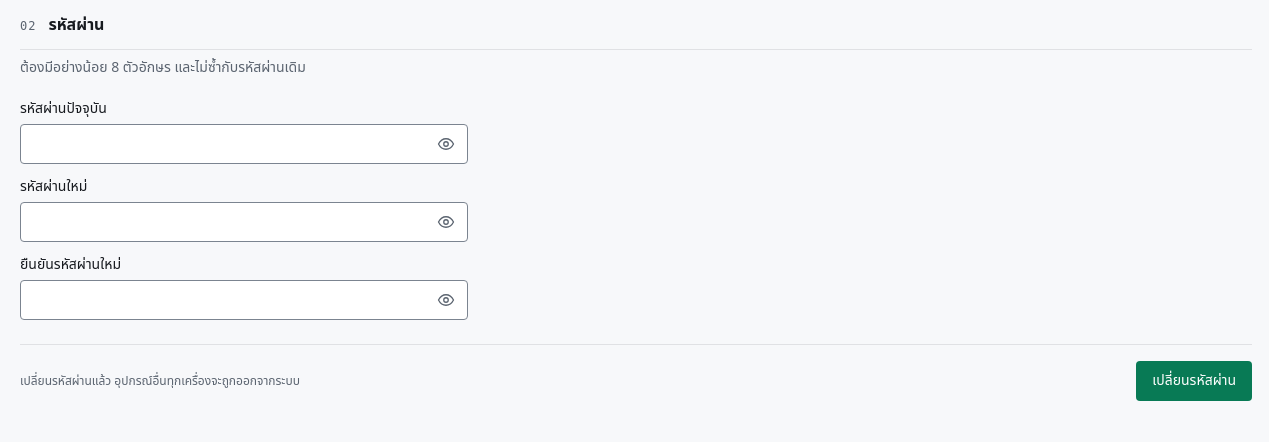
Test: PasswordCard › a rejected current password is reported on that field
Type "WrongPassw0rd!" into the password field with test id "change-current-password".
click(244, 144); type("WrongPassw0rd!")  # box [20,124,468,164]
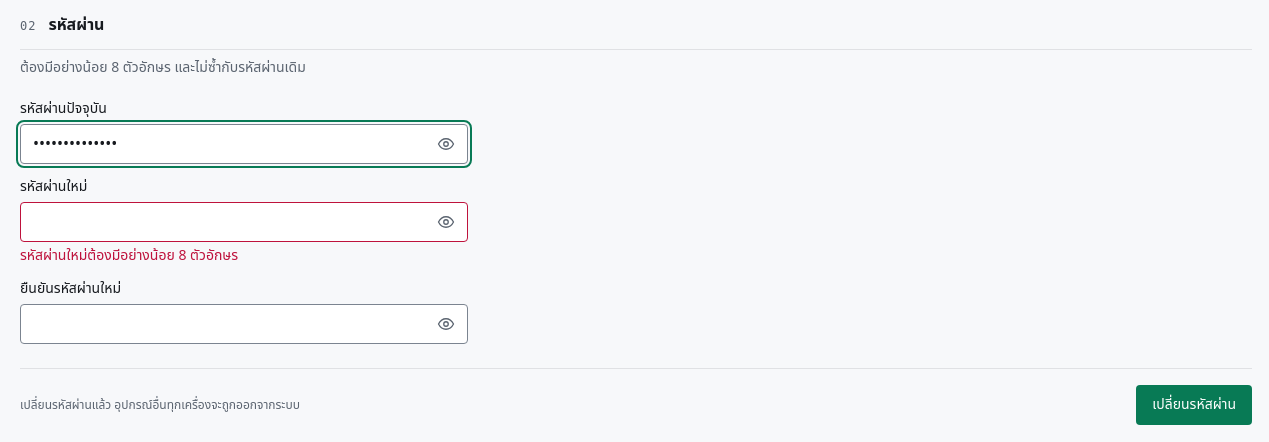
Type "NewPassw0rd!!" into the password field with test id "change-new-password".
click(244, 222); type("NewPassw0rd!!")  # box [20,202,468,242]
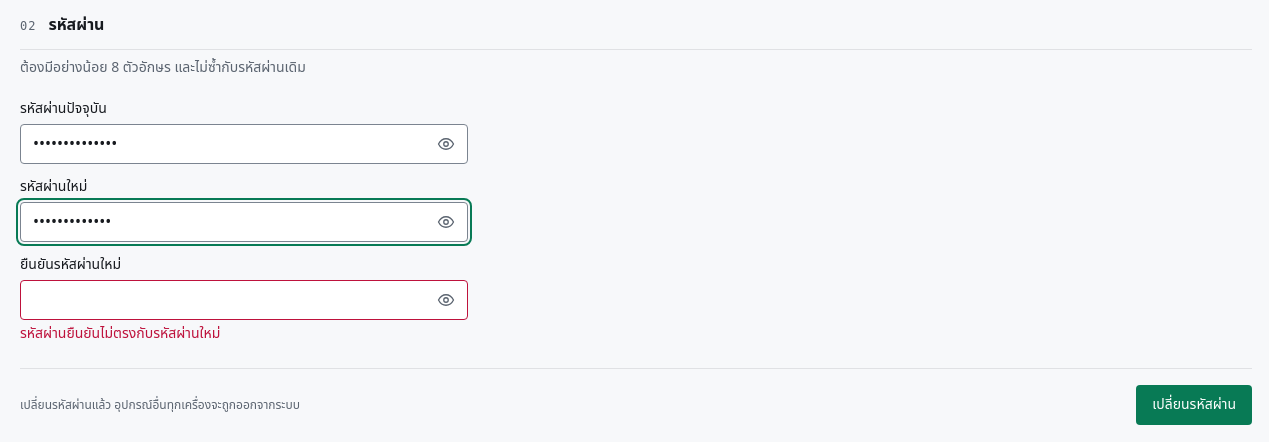
Type "NewPassw0rd!!" into the password field with test id "change-confirm-password".
click(244, 300); type("NewPassw0rd!!")  # box [20,280,468,320]
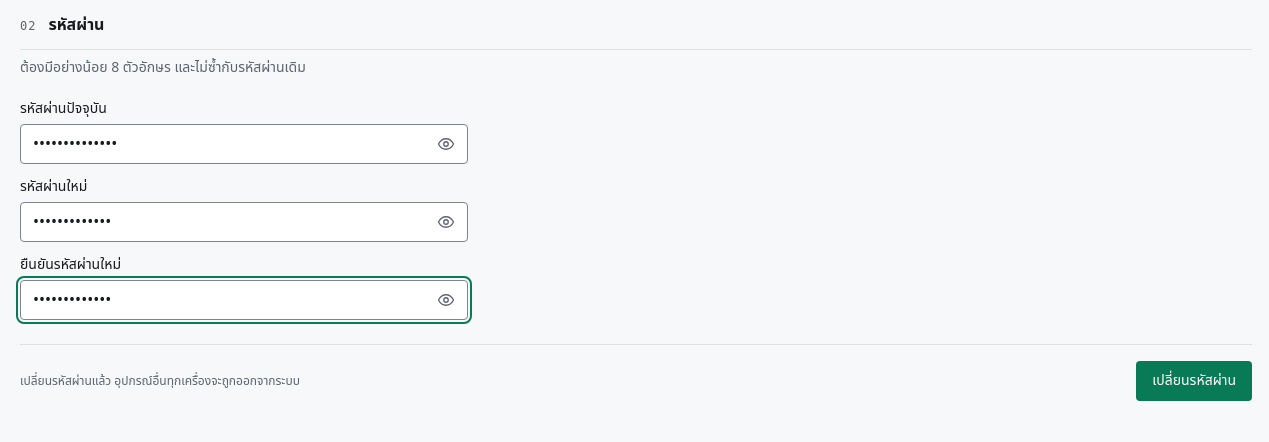
Click the button with test id "password-change-submit".
click(1194, 381)  # box [1136,361,1252,401]
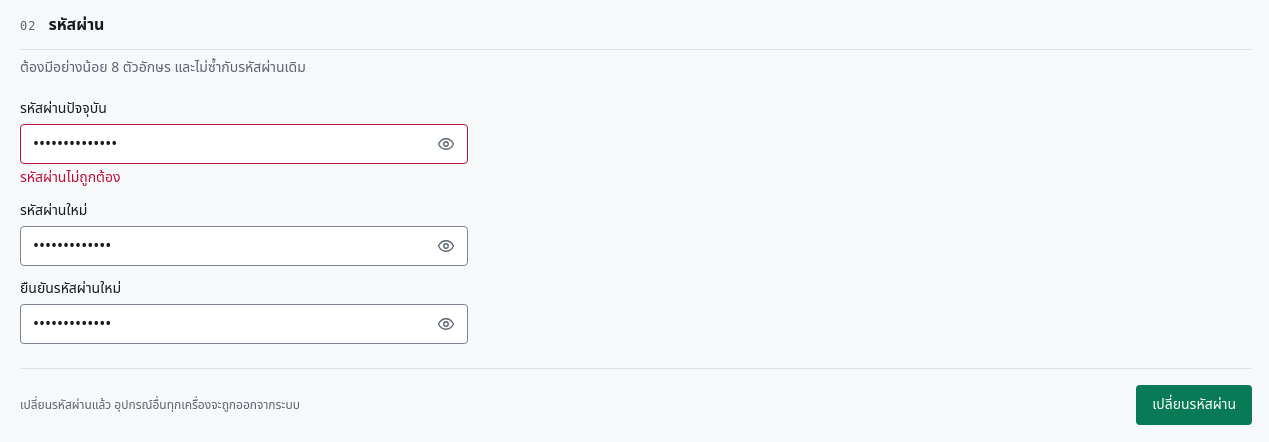
Check: the button with test id "password-change-submit" is enabled, box [1136,385,1252,425]
Check: the message "รหัสผ่านไม่ถูกต้อง" is shown, box [20,167,120,188]
